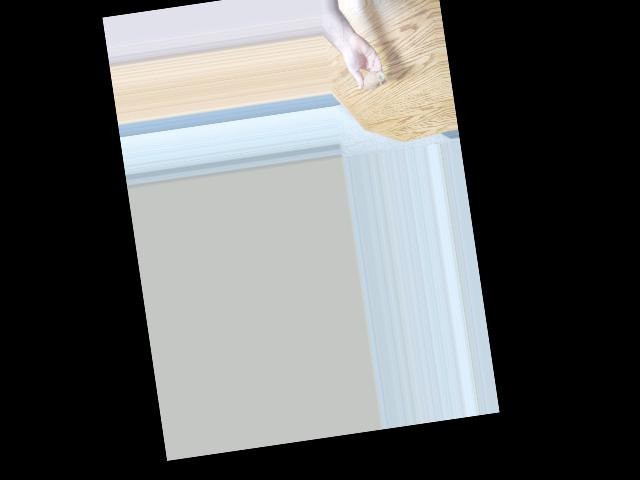sweet_potato: (359, 70, 387, 98)
